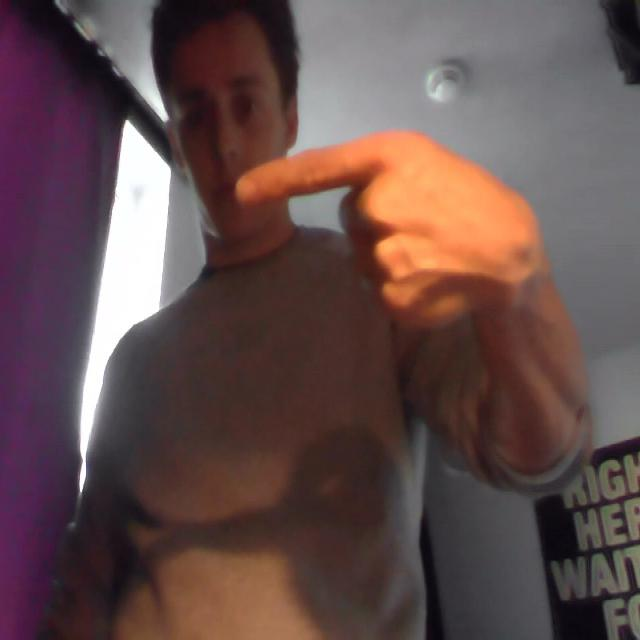left: (235, 117, 545, 344)
